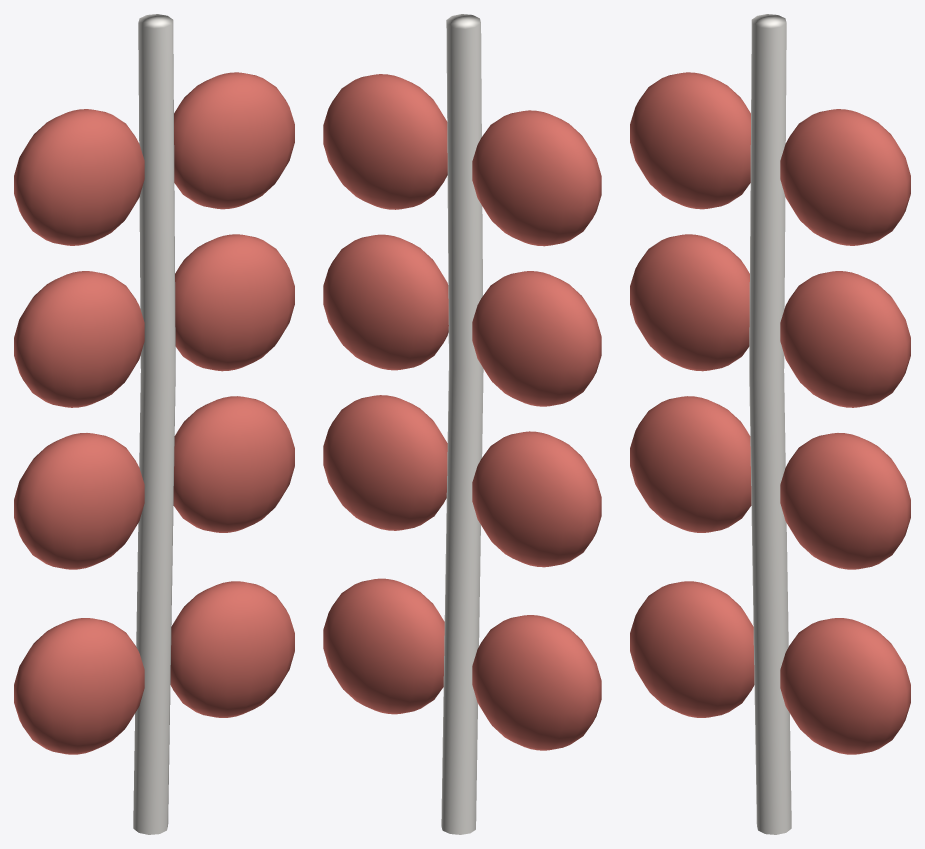
File: rectus_abdominis.glb
3 renders of one model, left to right at view 1: azimuth 30°, elevation 25°; view 2: azimuth 150°, elevation 25°; view 3: azimuth 330°, elevation 25°, orthographic.
Parts seen in each view (by area): view 1: tendon_linea_alba, muscle_rectus_abdominis_l_1, muscle_rectus_abdominis_l_4, muscle_rectus_abdominis_l_3, muscle_rectus_abdominis_l_2, muscle_rectus_abdominis_r_4, muscle_rectus_abdominis_r_3, muscle_rectus_abdominis_r_1, muscle_rectus_abdominis_r_2; view 2: tendon_linea_alba, muscle_rectus_abdominis_l_3, muscle_rectus_abdominis_l_1, muscle_rectus_abdominis_l_4, muscle_rectus_abdominis_l_2, muscle_rectus_abdominis_r_2, muscle_rectus_abdominis_r_1, muscle_rectus_abdominis_r_3, muscle_rectus_abdominis_r_4; view 3: tendon_linea_alba, muscle_rectus_abdominis_r_1, muscle_rectus_abdominis_r_4, muscle_rectus_abdominis_r_3, muscle_rectus_abdominis_r_2, muscle_rectus_abdominis_l_4, muscle_rectus_abdominis_l_3, muscle_rectus_abdominis_l_1, muscle_rectus_abdominis_l_2.
Boxes of the visible parts, bbox=[...] form: tendon_linea_alba: bbox=[133, 14, 175, 834]; muscle_rectus_abdominis_l_1: bbox=[14, 109, 144, 245]; muscle_rectus_abdominis_l_4: bbox=[14, 618, 144, 754]; muscle_rectus_abdominis_l_3: bbox=[14, 433, 144, 569]; muscle_rectus_abdominis_l_2: bbox=[14, 271, 144, 407]; muscle_rectus_abdominis_r_4: bbox=[170, 581, 294, 717]; muscle_rectus_abdominis_r_3: bbox=[173, 396, 294, 532]; muscle_rectus_abdominis_r_1: bbox=[174, 72, 294, 209]; muscle_rectus_abdominis_r_2: bbox=[175, 234, 294, 371]; tendon_linea_alba: bbox=[441, 14, 483, 834]; muscle_rectus_abdominis_l_3: bbox=[472, 431, 601, 567]; muscle_rectus_abdominis_l_1: bbox=[472, 110, 601, 246]; muscle_rectus_abdominis_l_4: bbox=[472, 615, 601, 750]; muscle_rectus_abdominis_l_2: bbox=[472, 271, 601, 406]; muscle_rectus_abdominis_r_2: bbox=[323, 234, 448, 370]; muscle_rectus_abdominis_r_1: bbox=[323, 74, 447, 209]; muscle_rectus_abdominis_r_3: bbox=[323, 395, 447, 530]; muscle_rectus_abdominis_r_4: bbox=[323, 578, 444, 714]; tendon_linea_alba: bbox=[749, 14, 791, 834]; muscle_rectus_abdominis_r_1: bbox=[780, 109, 910, 245]; muscle_rectus_abdominis_r_4: bbox=[780, 618, 910, 754]; muscle_rectus_abdominis_r_3: bbox=[780, 433, 910, 569]; muscle_rectus_abdominis_r_2: bbox=[780, 271, 910, 407]; muscle_rectus_abdominis_l_4: bbox=[630, 581, 754, 717]; muscle_rectus_abdominis_l_3: bbox=[630, 396, 751, 532]; muscle_rectus_abdominis_l_1: bbox=[630, 72, 750, 209]; muscle_rectus_abdominis_l_2: bbox=[630, 234, 749, 371].
Bounding box in the file's own units: 0.1234 × 0.3503 × 0.0356.
